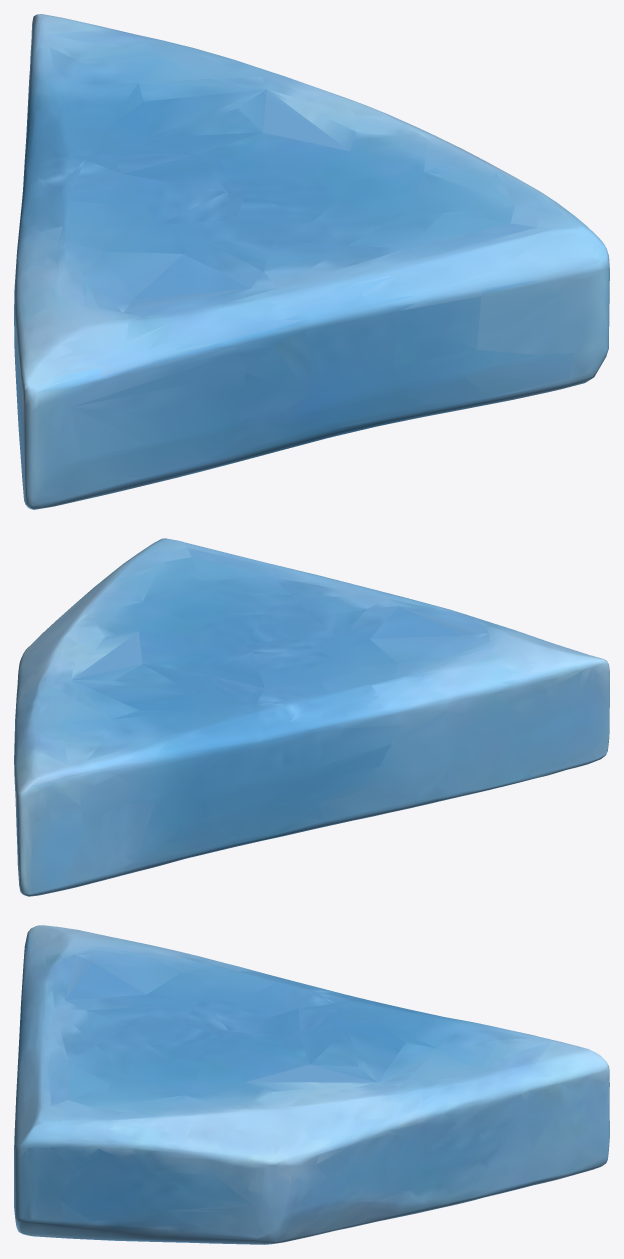
File: placa_hielo_rota_3_2500.glb
3 views of the same model, one above another, from view 1: azimuth 30°, elevation 25°; view 2: azimuth 150°, elevation 25°; view 3: azimuth 270°, elevation 25° (orthographic). The views are drawn at different scales.
Visible parts, largest first — view 1: placa_hielo_rota_3_malla; view 2: placa_hielo_rota_3_malla; view 3: placa_hielo_rota_3_malla.
Boxes of the visible parts, bbox=[...] form: placa_hielo_rota_3_malla: bbox=[14, 14, 609, 509]; placa_hielo_rota_3_malla: bbox=[14, 538, 609, 896]; placa_hielo_rota_3_malla: bbox=[14, 925, 609, 1244].
Size of the model in its own units: 0.1101 by 0.0277 by 0.1233.
Materials: 1 (1 with a texture image).
